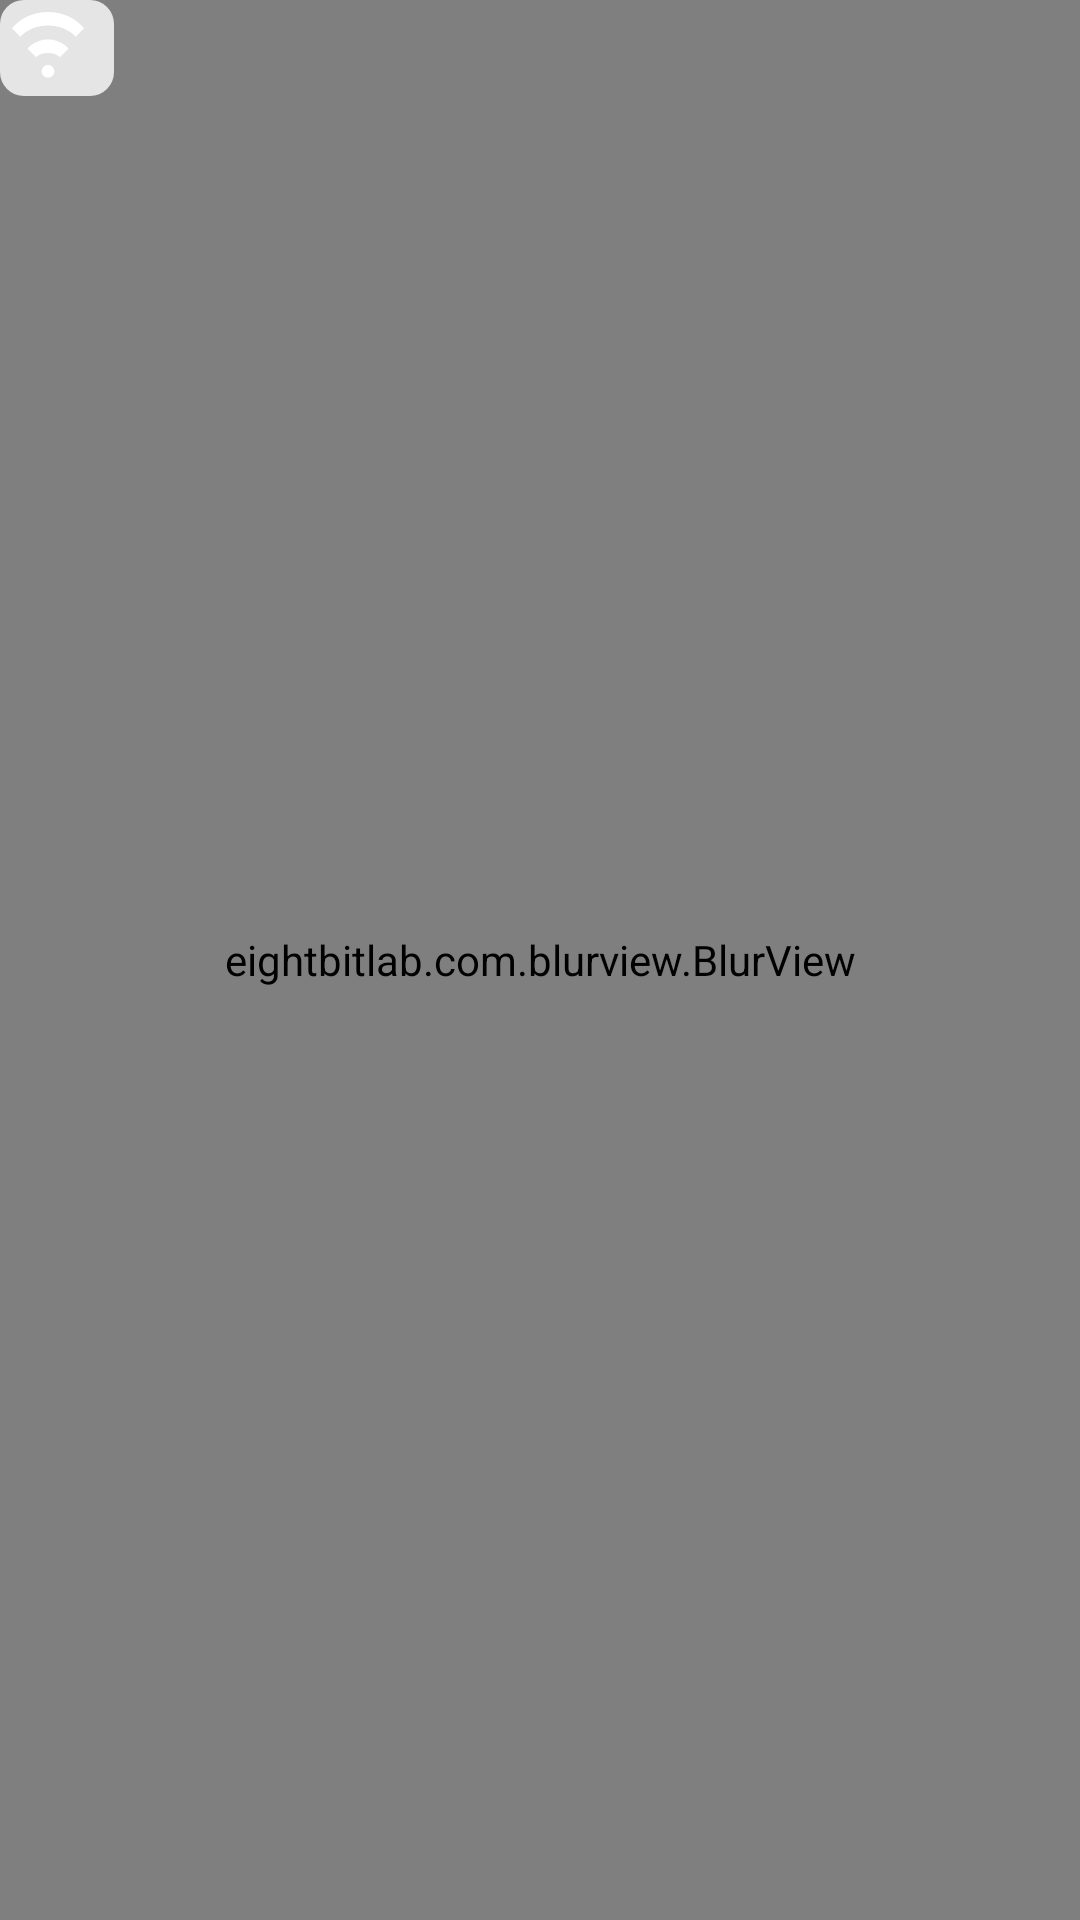

Icon click points for this 1080w x 1920h phone screenshot, format [x,y]:
wifi: [48,44]
